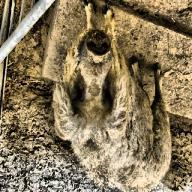boar: (50, 1, 172, 192)
